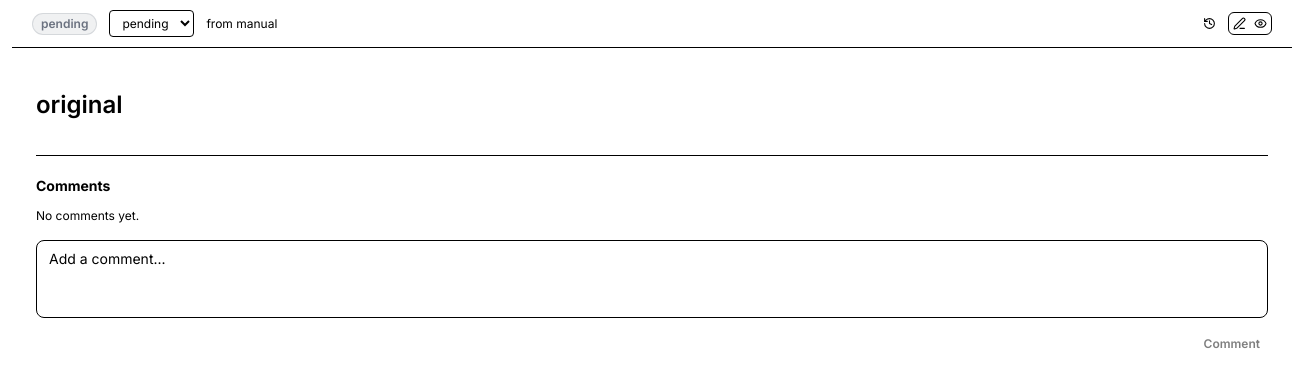
Scenario: TaskDetailBody content sync › offers Save only once something has been typed
Click the button titled "Edit" at (1240, 24), box [1229,13,1250,34]
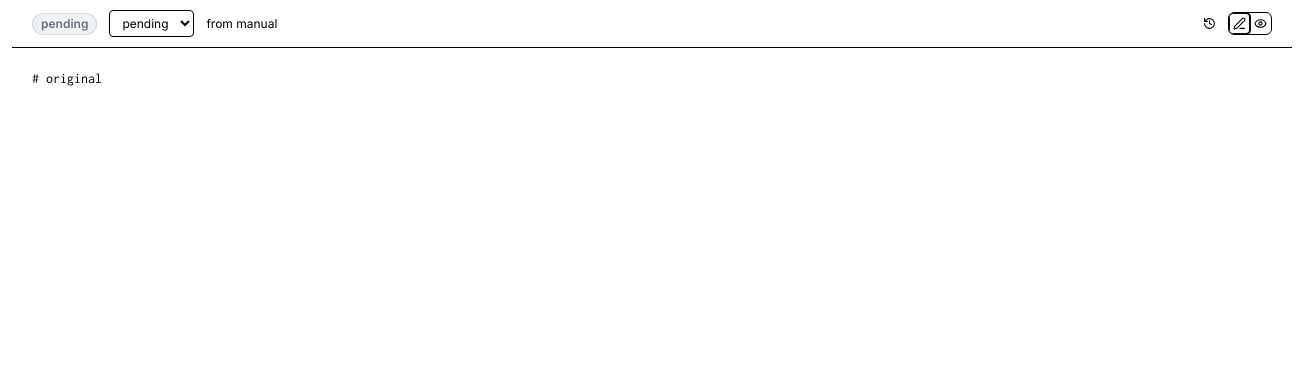
Expected: the button "save" is not shown
Type "!" into the text box with placeholder "Task content..." at (652, 91), box [12,48,1292,134]
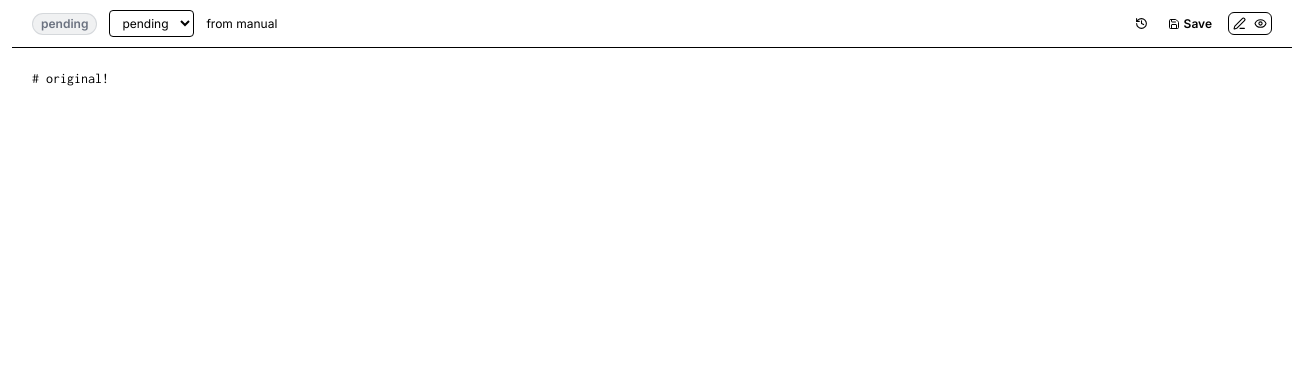
Now the button "Save" is shown, box [1160,12,1220,36]
